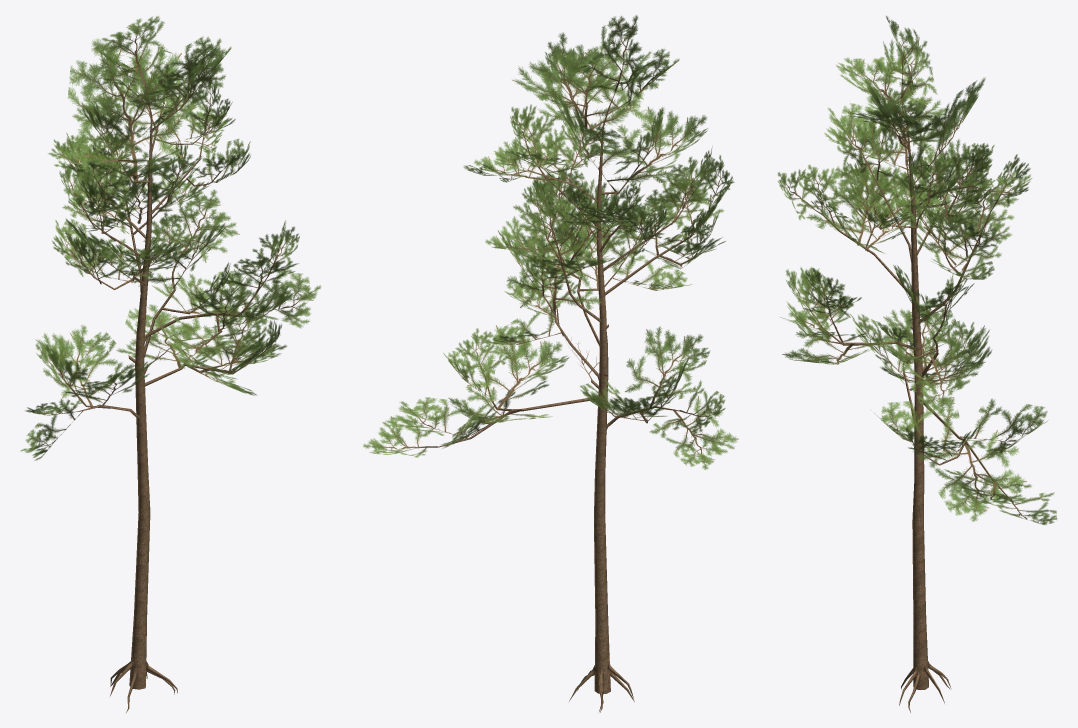
File: tpine4.glb
3 views of the same model, side by side, from view 1: azimuth 30°, elevation 25°; view 2: azimuth 150°, elevation 25°; view 3: azimuth 270°, elevation 25° (orthographic). The views are drawn at different scales.
Visible parts, largest first — view 1: prefab; view 2: prefab; view 3: prefab.
Part boxes in pixels (<box>): prefab: <box>20,16,321,712</box>; prefab: <box>363,15,738,712</box>; prefab: <box>777,16,1057,712</box>.
Size of the model in its own units: 5.42 by 11.84 by 4.62.
Materials: 2 (2 with a texture image).
